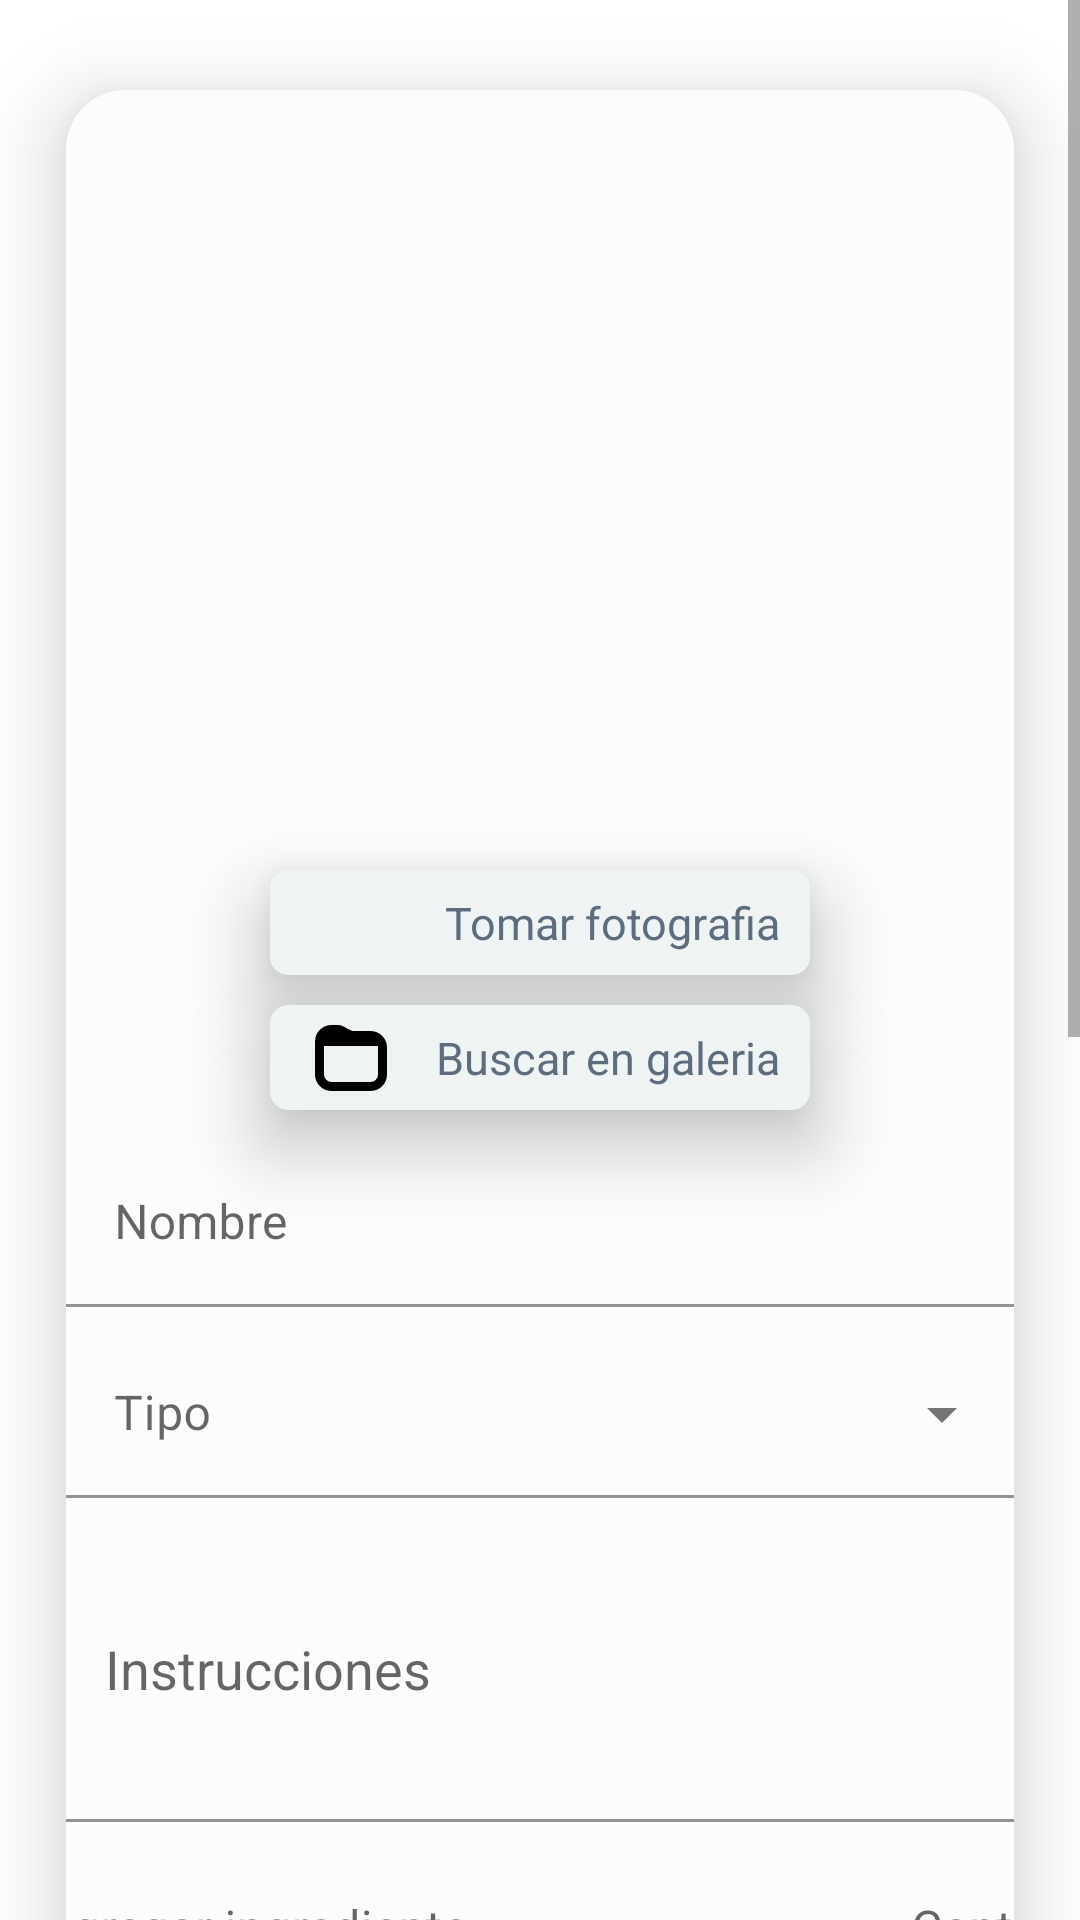

Named icons in this screenshot (1080×1920) and their bounding boxes, [x1,y1,x2,y2]:
folder: [315,1025,387,1091]
